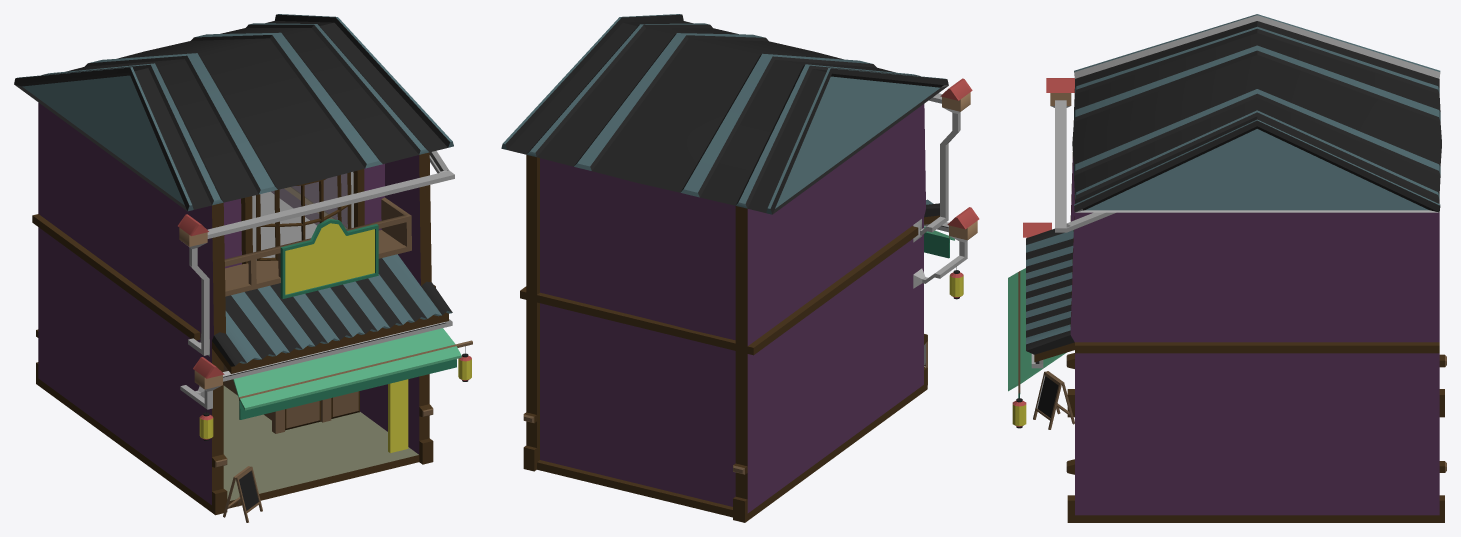
File: Comercio_2.2.fbx
3 renders of one model, left to right at view 1: azimuth 30°, elevation 25°; view 2: azimuth 150°, elevation 25°; view 3: azimuth 270°, elevation 25°, orthographic. The views are drawn at different scales.
Visible parts, largest first — view 1: polySurface27, polySurface21, polySurface28, polySurface32, polySurface1, polySurface24; view 2: polySurface27, polySurface21; view 3: polySurface27, polySurface21, polySurface24.
Part boxes in pixels (x1,y1,x2,y2): polySurface27: (14,14,472,515); polySurface21: (178,150,454,409); polySurface28: (280,219,378,298); polySurface32: (272,391,359,433); polySurface1: (388,379,408,453); polySurface24: (223,466,262,522); polySurface27: (501,14,954,522); polySurface21: (913,78,979,288); polySurface27: (1008,14,1446,522); polySurface21: (1023,78,1115,368); polySurface24: (1033,371,1074,429).
Bounding box in the file's own units: 8.24 × 10.83 × 10.77.
